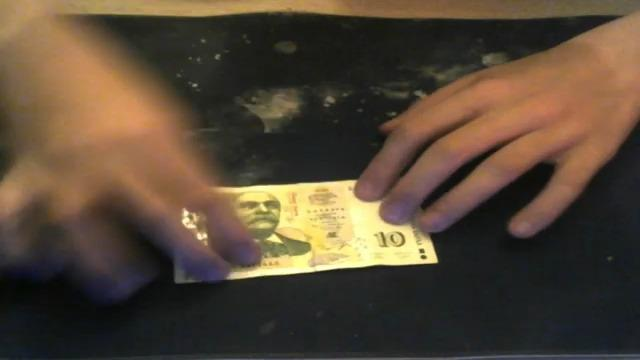10leva: (217, 180, 439, 280)
